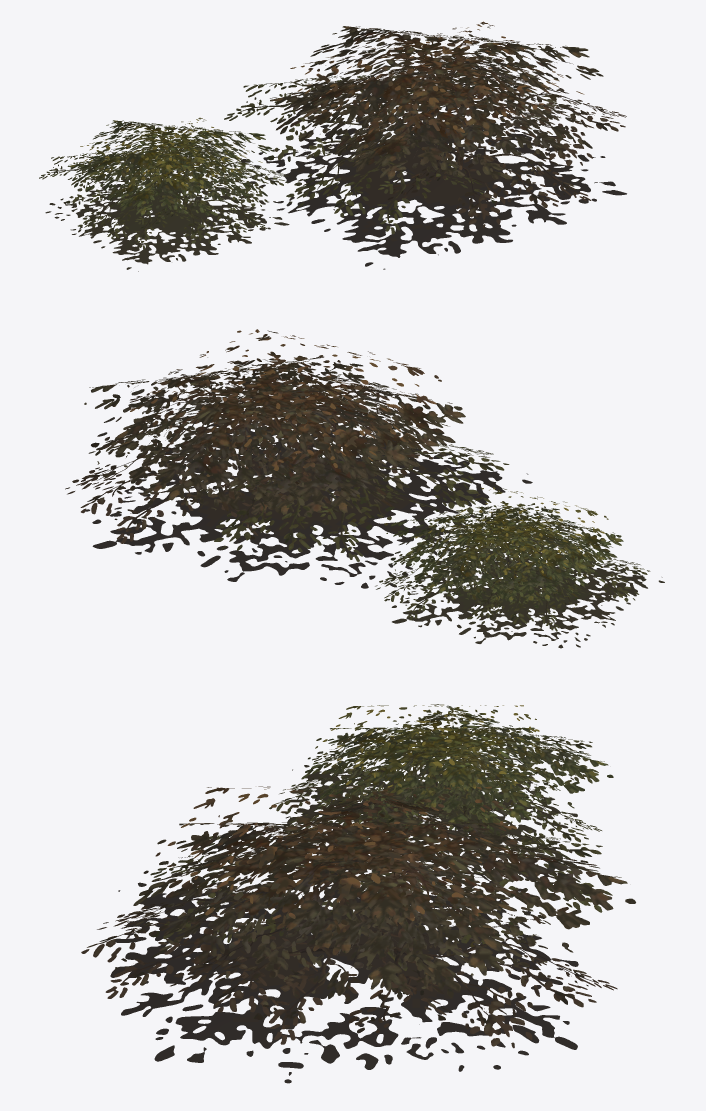
Rendered from plants_bushes10.fbx.
The picture shows the model from 3 angles, top to bottom: view 1: azimuth 30°, elevation 25°; view 2: azimuth 150°, elevation 25°; view 3: azimuth 270°, elevation 25°; orthographic projection. The views are drawn at different scales.
Parts seen in each view (by area): view 1: plants_bushes10-0; view 2: plants_bushes10-0; view 3: plants_bushes10-0.
Boxes of the visible parts, x1,y1,x2,y2 form: plants_bushes10-0: (39, 21, 626, 271); plants_bushes10-0: (65, 329, 664, 648); plants_bushes10-0: (81, 704, 635, 1083).
Bounding box in the file's own units: 6.38 × 1.35 × 4.83.
